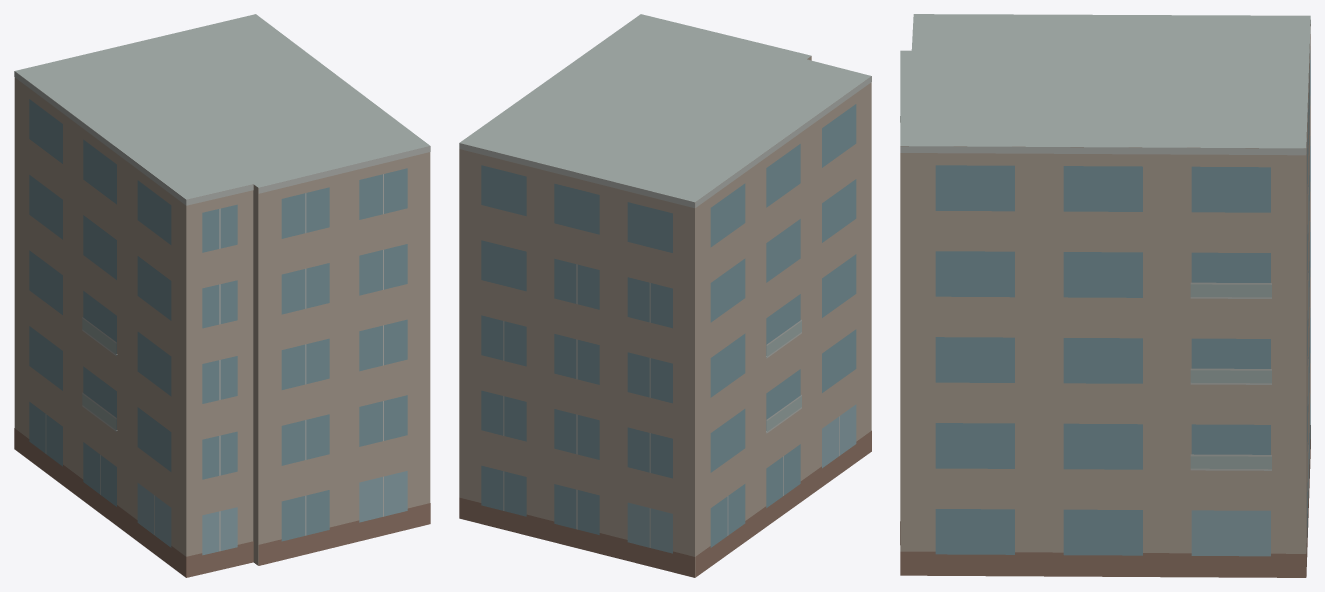
The model's file is survey-upis-32834488.glb.
3 renders of one model, left to right at view 1: azimuth 30°, elevation 25°; view 2: azimuth 150°, elevation 25°; view 3: azimuth 270°, elevation 25°, orthographic. The views are drawn at different scales.
Parts seen in each view (by area): view 1: survey-upis-32834488.tmp; view 2: survey-upis-32834488.tmp; view 3: survey-upis-32834488.tmp.
Boxes of the visible parts, left/top/right/bottom form: survey-upis-32834488.tmp: left=14, top=14, right=430, bottom=577; survey-upis-32834488.tmp: left=459, top=14, right=871, bottom=577; survey-upis-32834488.tmp: left=900, top=14, right=1310, bottom=577.
Bounding box in the file's own units: 10.26 × 15.25 × 13.22.
